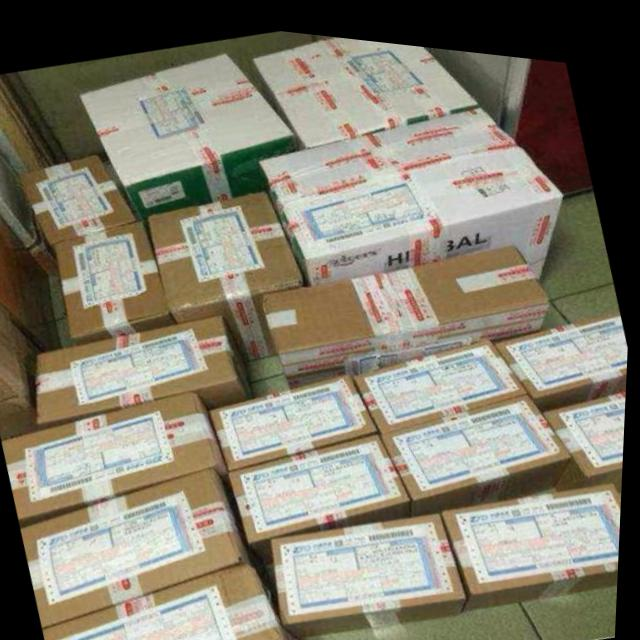box: (258, 92, 564, 277), (264, 230, 551, 380), (30, 460, 263, 625), (80, 45, 298, 214), (6, 382, 231, 527), (146, 180, 306, 352), (231, 426, 415, 566), (277, 502, 472, 632), (254, 30, 481, 139), (43, 312, 261, 424), (385, 380, 576, 507), (445, 466, 625, 600), (48, 556, 307, 640), (211, 363, 382, 464), (356, 328, 532, 425), (51, 214, 181, 342), (494, 294, 630, 396), (21, 151, 141, 243), (0, 209, 64, 346), (549, 373, 629, 477), (0, 72, 75, 178), (0, 298, 49, 438), (0, 156, 38, 246)
